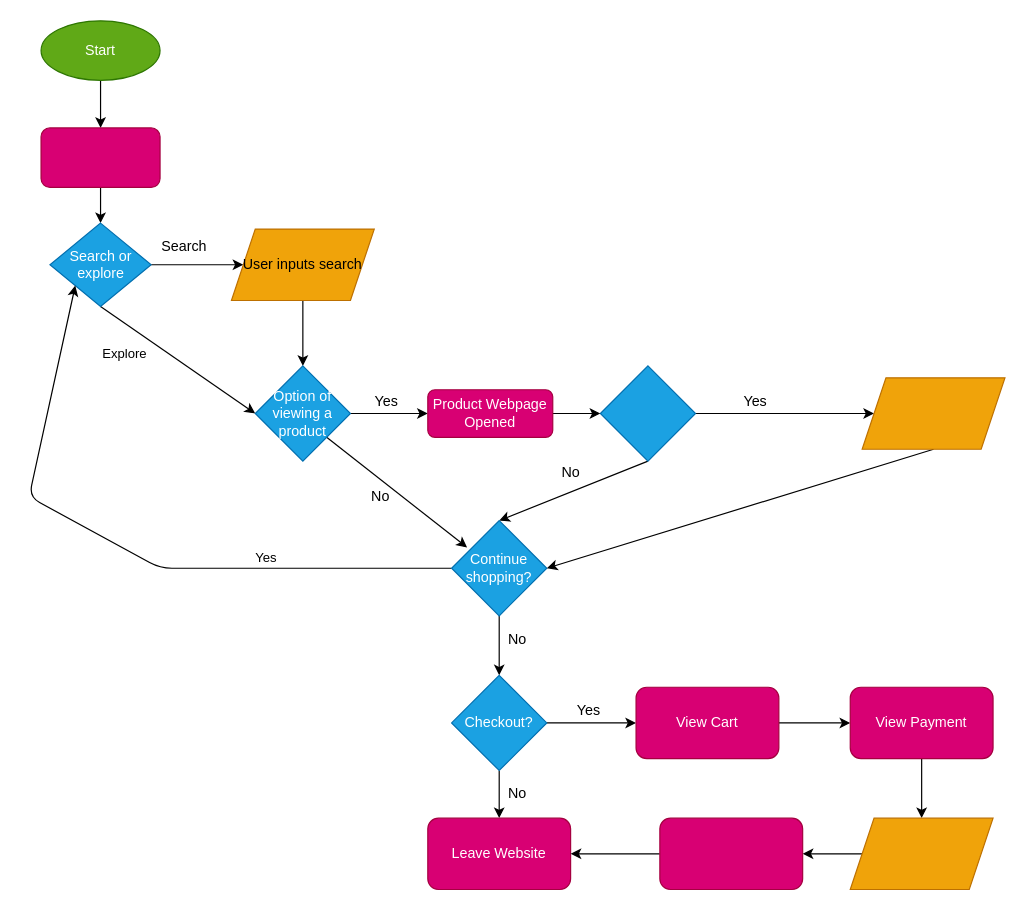
Image size: 1026x910. Some labels were removed from this diagram. The centre of each missing label's shape, as x and y in pixels:
Add product to cart?: the point at 647,413
Confirmation Screen and receive email: the point at 731,853
Input of Payment: the point at 921,853
Product added confirmation: the point at 933,413
User enters website: the point at 100,157
